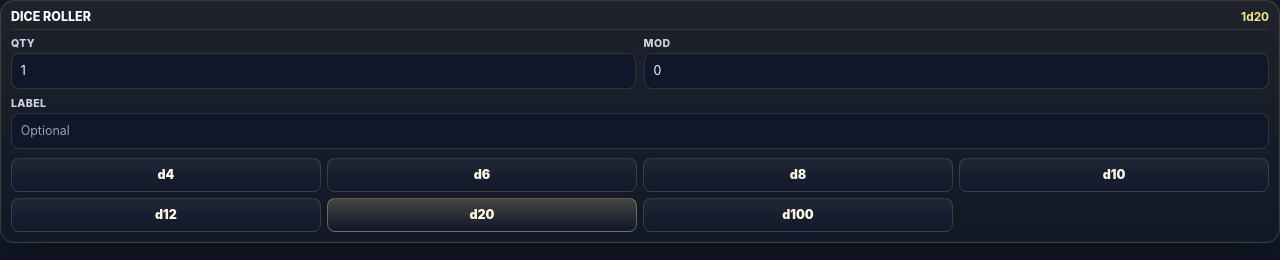
ManualDiceRoller › disables dice while input is invalid and restores invalid fields on blur
The width and height of the screenshot is (1280, 260).
Replace the text in the number field labelled "Qty" with "99" at (324,71), box left=11, top=53, right=636, bottom=89
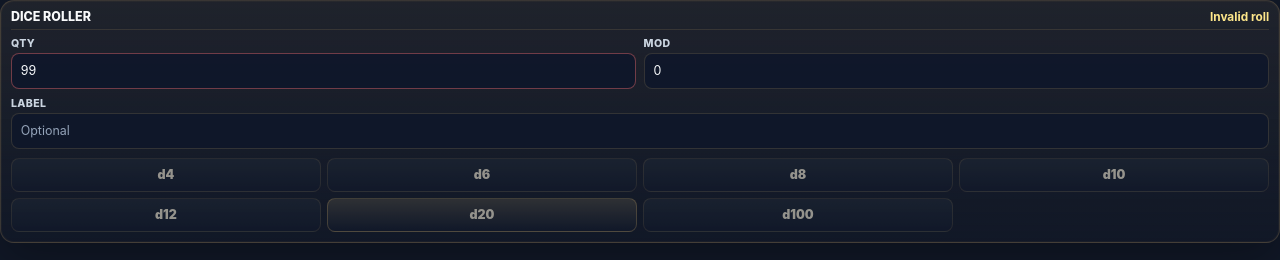
Result: the text "Invalid roll" is shown at left=1210, top=11, right=1269, bottom=24
Result: the button "d20" is disabled at left=327, top=198, right=637, bottom=232
Leave the number field labelled "Qty", box left=11, top=53, right=636, bottom=89
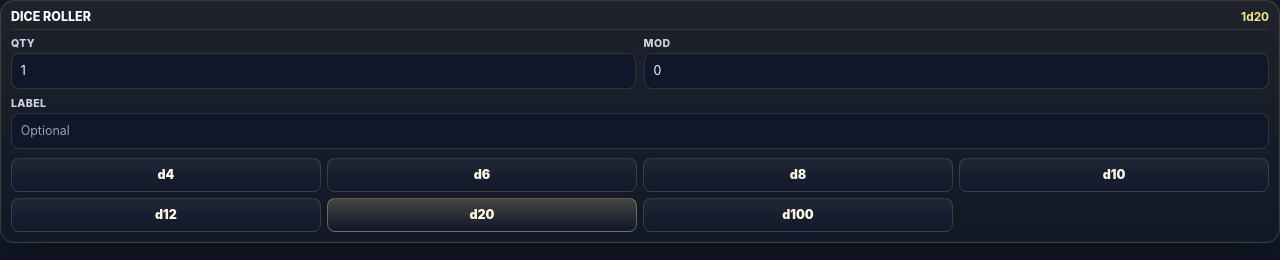
Result: the number field labelled "Qty" holds "1" at left=11, top=53, right=636, bottom=89
Clear the number field labelled "Mod" at (956,71), box left=644, top=53, right=1269, bottom=89
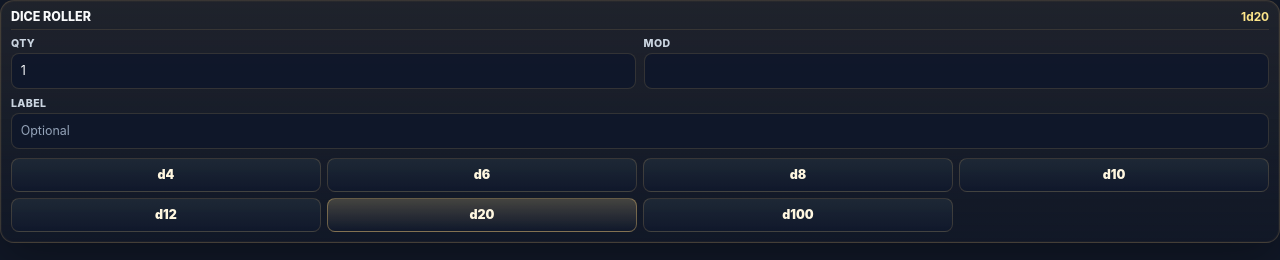
Result: the text "1d20" is shown at left=1241, top=11, right=1269, bottom=24
Type "101" into the number field labelled "Mod" at (956,71), box left=644, top=53, right=1269, bottom=89
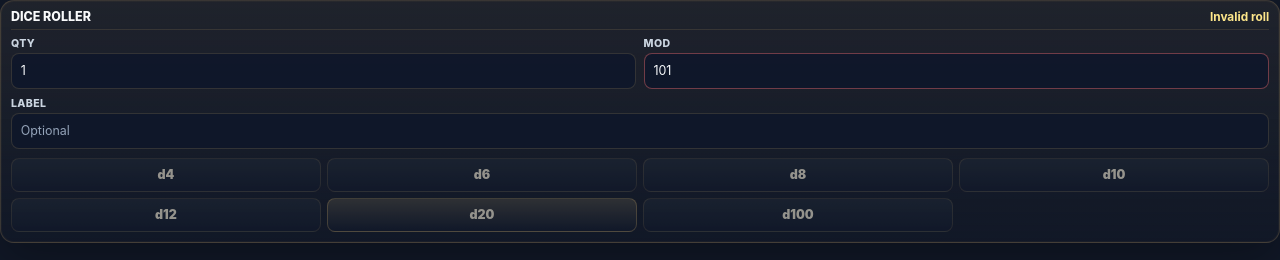
Leave the number field labelled "Mod", box left=644, top=53, right=1269, bottom=89
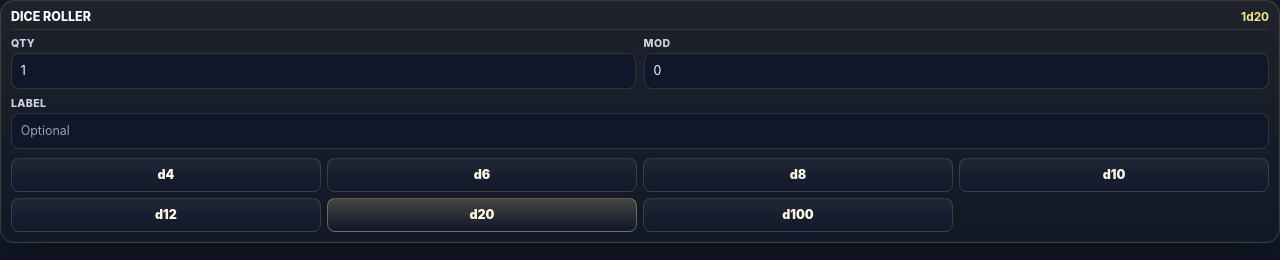
Result: the number field labelled "Mod" holds "0" at left=644, top=53, right=1269, bottom=89
